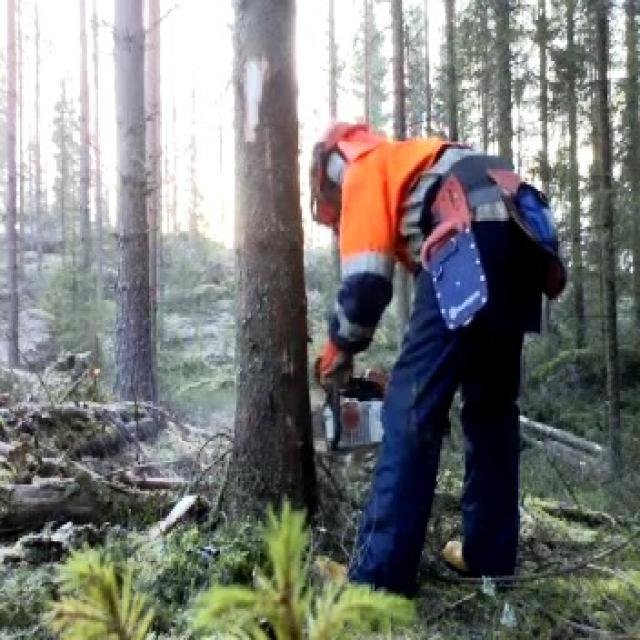Chainsaw: (285, 348, 398, 456)
